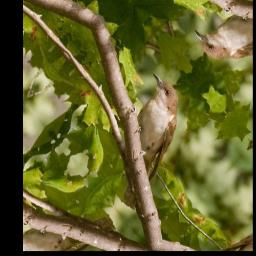Cuckoo: (78, 66, 212, 214)
